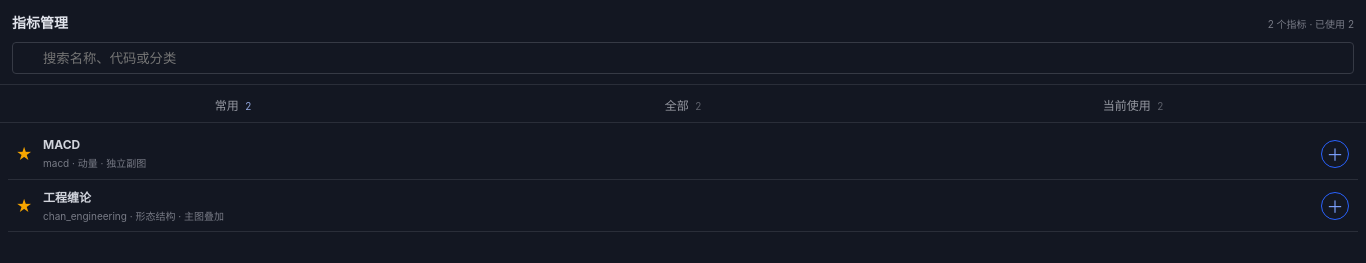
Test: IndicatorManagerPanel › shows active instances as compact expandable cards and filters the current list
Click the button "当前使用 2" at (1133, 104), box [908,85,1358,123]
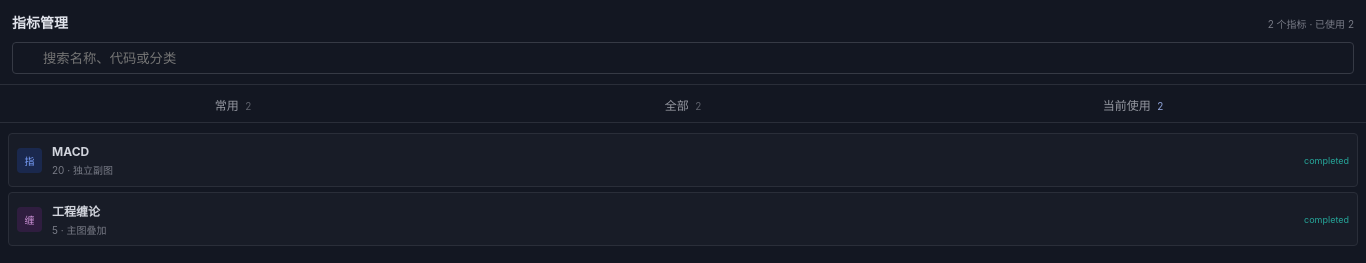
Expected: the number of elements with class "indicator-current-card" is 2, [8,133,1358,187]; [8,192,1358,246]
Type "形态结构" into the search field named "搜索指标" at (683, 58), box [12,42,1354,74]
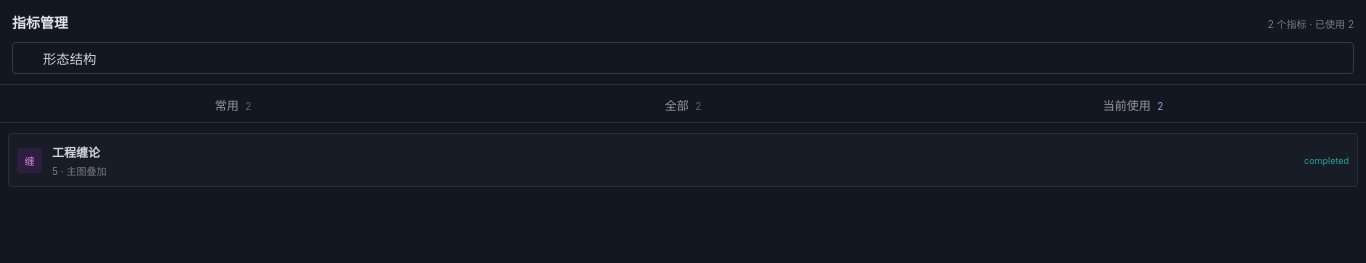
Expected: the element with class "indicator-current-card" shows "工程缠论", [52,144,100,160]
Expected: the number of elements with class "indicator-current-card" is 1, [8,133,1358,187]
